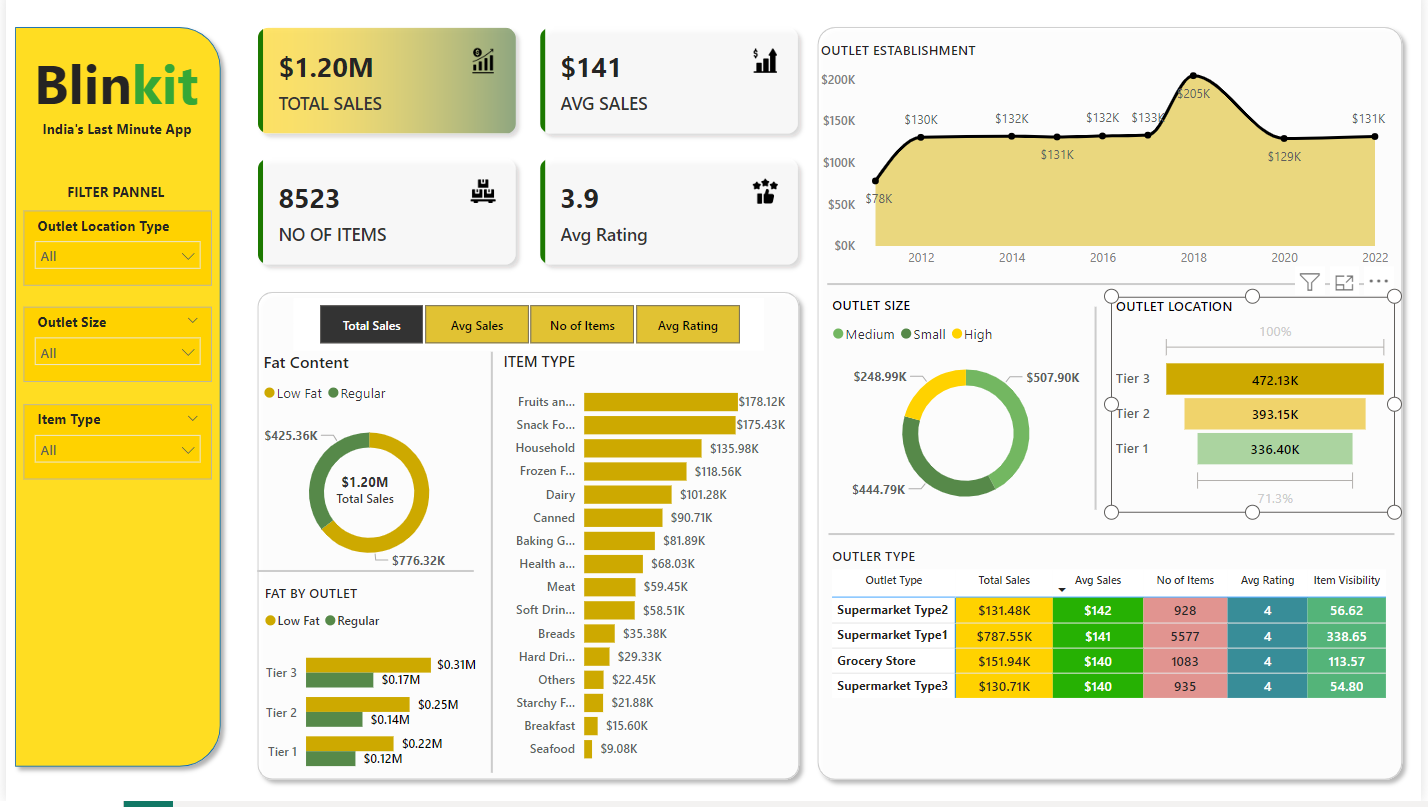

What the dashboard file says about the page in this screenshot:
{"tool":"powerbi","page":{"name":"Blinkit Report","canvas":[1400,800],"ordinal":0},"visuals":[{"type":"shape","box":[0,24.3,221.4,750],"z":0},{"type":"textbox","box":[505.7,701.4,205.7,72.9],"z":1000},{"type":"textbox","box":[15.7,47.1,185.7,88.6],"z":2000},{"type":"textbox","box":[15.7,120,172.9,31.4],"z":3000},{"type":"cardVisual","fields":{"Data":["BlinkIT Grocery Data.Total Sales","BlinkIT Grocery Data.Avg Sales","BlinkIT Grocery Data.No of Items","BlinkIT Grocery Data.Avg Rating"]},"box":[232,17.4,569.7,269.8],"z":4000},{"type":"shape","box":[239.9,287.2,553.9,500.2],"z":5000},{"type":"donutChart","title":" Fat Content","fields":{"Y":["BlinkIT Grocery Data.Total Sales"],"Category":["BlinkIT Grocery Data.Item Fat Content"]},"box":[249.3,353.5,219.3,230.4],"z":6000},{"type":"slicer","fields":{"Values":["Metrics.Metrics"]},"box":[284,301.4,465.5,52.1],"z":7000},{"type":"cardVisual","fields":{"Data":["BlinkIT Grocery Data.Total Sales"]},"box":[312.9,457.1,94.3,58.6],"z":8000},{"type":"clusteredBarChart","title":"FAT BY OUTLET","fields":{"Y":["BlinkIT Grocery Data.Total Sales"],"Category":["BlinkIT Grocery Data.Outlet Location Type"],"Series":["BlinkIT Grocery Data.Item Fat Content"]},"box":[250.9,583.9,219.3,203.6],"z":9000},{"type":"shape","box":[248.6,558.6,214.3,25.7],"z":10000},{"type":"shape","box":[454.5,355.1,53.7,416.6],"z":11000},{"type":"clusteredBarChart","title":"ITEM TYPE","fields":{"Y":["BlinkIT Grocery Data.Total Sales"],"Category":["BlinkIT Grocery Data.Item Type"]},"box":[487.6,353.5,288.8,418.2],"z":12000},{"type":"shape","box":[793.6,24.1,596.5,762.7],"z":13000},{"type":"lineChart","title":"OUTLET ESTABLISHMENT","fields":{"Category":["BlinkIT Grocery Data.Outlet Establishment Year"],"Y":["BlinkIT Grocery Data.Total Sales"]},"box":[801.6,47.3,571.2,233.5],"z":14000},{"type":"shape","box":[812.7,274.6,560.2,26.8],"z":15000},{"type":"donutChart","title":" OUTLET SIZE","fields":{"Y":["BlinkIT Grocery Data.Total Sales"],"Category":["BlinkIT Grocery Data.Outlet Size"]},"box":[812.3,298.9,274.8,225.2],"z":16000},{"type":"shape","box":[1050.9,311,53.6,201.1],"z":17000},{"type":"funnel","title":"OUTLET LOCATION","fields":{"Category":["BlinkIT Grocery Data.Outlet Location Type"],"Y":["Sum(BlinkIT Grocery Data.Sales)"]},"box":[1093.8,300.3,280.2,214.5],"z":18000},{"type":"shape","box":[813.7,521.5,560.3,26.8],"z":19000},{"type":"pivotTable","title":"OUTLER TYPE","fields":{"Rows":["BlinkIT Grocery Data.Outlet Type"],"Values":["BlinkIT Grocery Data.Total Sales","BlinkIT Grocery Data.Avg Sales","BlinkIT Grocery Data.No of Items","BlinkIT Grocery Data.Avg Rating","Sum(BlinkIT Grocery Data.Item Visibility)"]},"box":[812.3,548.3,560.3,199.7],"z":20000},{"type":"slicer","fields":{"Values":["BlinkIT Grocery Data.Outlet Location Type"]},"box":[17.4,214.6,186.2,74.2],"z":21000},{"type":"slicer","fields":{"Values":["BlinkIT Grocery Data.Outlet Size"]},"box":[17.4,310.9,186.2,74.2],"z":22000},{"type":"slicer","fields":{"Values":["BlinkIT Grocery Data.Item Type"]},"box":[17.4,407.1,186.2,74.2],"z":23000},{"type":"textbox","box":[22.8,183.6,172.9,30.8],"z":24000}]}

Visuals, with their boxes in screenshot pixels (x1, y1, x2, y2), scaled from the page's 1400x800 canvas onto the 1428x807 screenshot:
shape: detection(0, 25, 226, 781)
textbox: detection(516, 708, 726, 781)
textbox: detection(16, 48, 205, 137)
textbox: detection(16, 121, 192, 153)
cardVisual - BlinkIT Grocery Data.Total Sales x BlinkIT Grocery Data.Avg Sales: detection(237, 18, 818, 290)
shape: detection(245, 290, 810, 794)
" Fat Content" donutChart: detection(254, 357, 478, 589)
slicer - Metrics.Metrics: detection(290, 304, 764, 357)
cardVisual - BlinkIT Grocery Data.Total Sales: detection(319, 461, 415, 520)
"FAT BY OUTLET" clusteredBarChart: detection(256, 589, 480, 794)
shape: detection(254, 563, 472, 589)
shape: detection(464, 358, 518, 778)
"ITEM TYPE" clusteredBarChart: detection(497, 357, 792, 778)
shape: detection(809, 24, 1418, 794)
"OUTLET ESTABLISHMENT" lineChart: detection(818, 48, 1400, 283)
shape: detection(829, 277, 1400, 304)
" OUTLET SIZE" donutChart: detection(829, 302, 1109, 529)
shape: detection(1072, 314, 1127, 517)
"OUTLET LOCATION" funnel: detection(1116, 303, 1401, 519)
shape: detection(830, 526, 1401, 553)
"OUTLER TYPE" pivotTable: detection(829, 553, 1400, 755)
slicer - BlinkIT Grocery Data.Outlet Location Type: detection(18, 216, 208, 291)
slicer - BlinkIT Grocery Data.Outlet Size: detection(18, 314, 208, 388)
slicer - BlinkIT Grocery Data.Item Type: detection(18, 411, 208, 486)
textbox: detection(23, 185, 200, 216)
